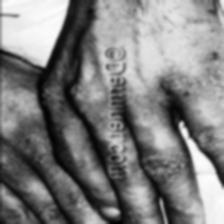Toxin: (140, 150, 188, 182), (22, 130, 52, 158), (158, 76, 190, 96), (61, 84, 89, 106), (37, 208, 65, 224), (0, 146, 12, 174)
